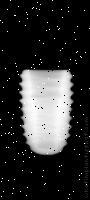Cowellmedi: (19, 70, 74, 158)
